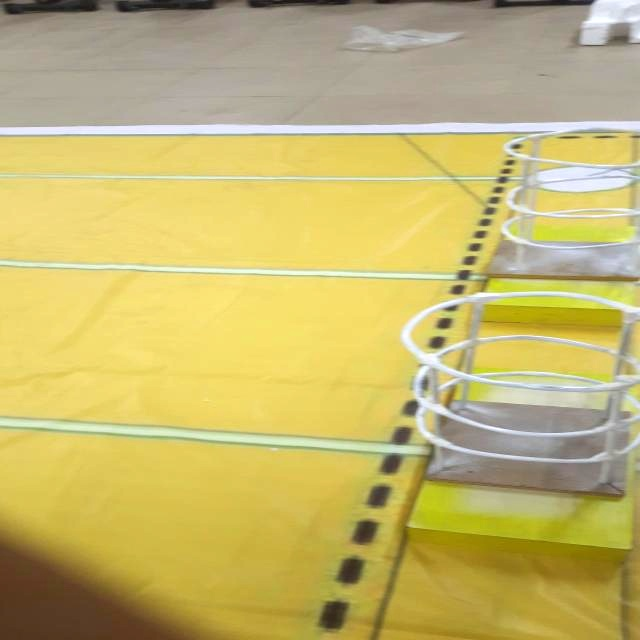silo: (363, 281, 640, 506), (483, 115, 640, 291)
